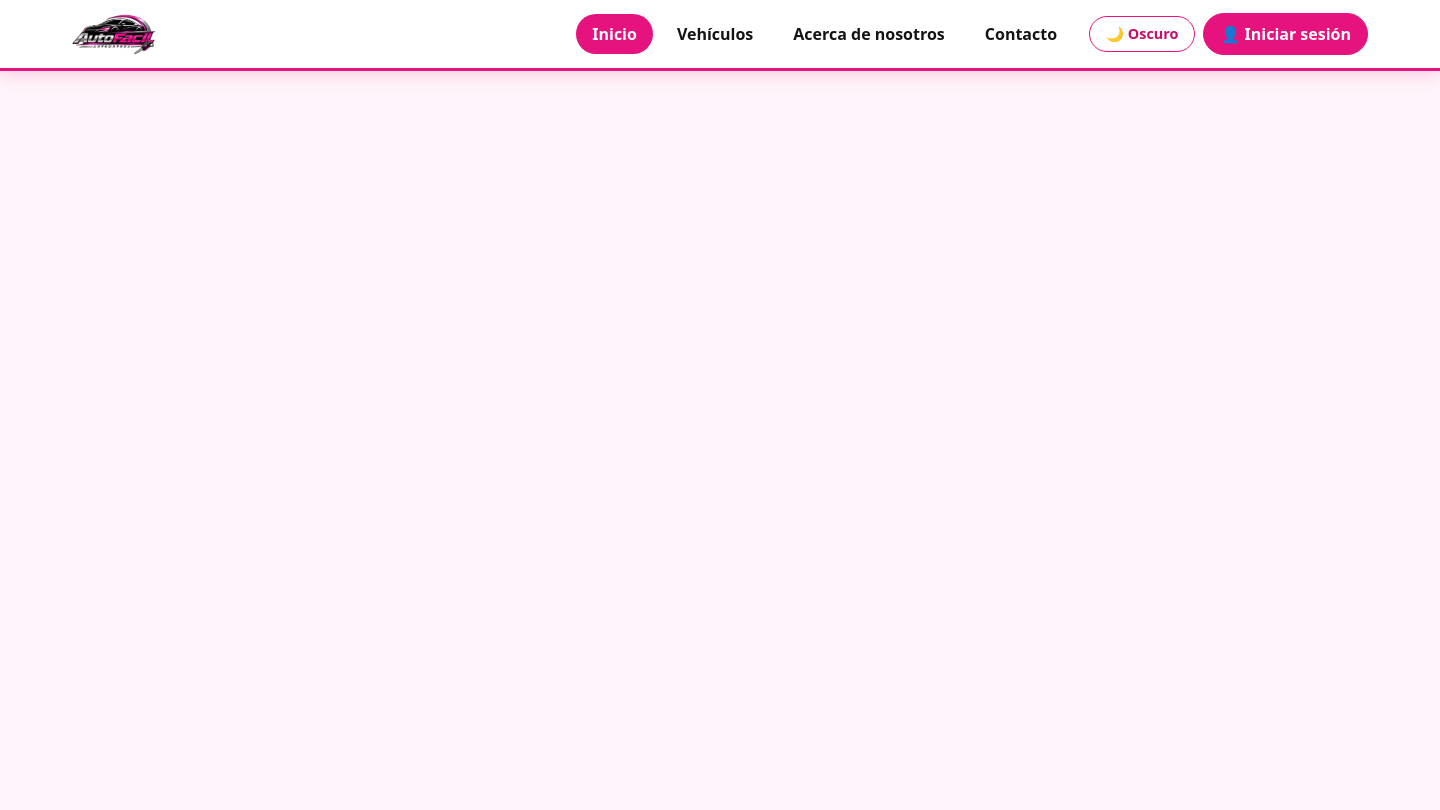
ModalSesion › muestra error con credenciales incorrectas
Step 1. Click the button "👤 Iniciar sesión" → (1286, 34), box [1203,13,1368,55]
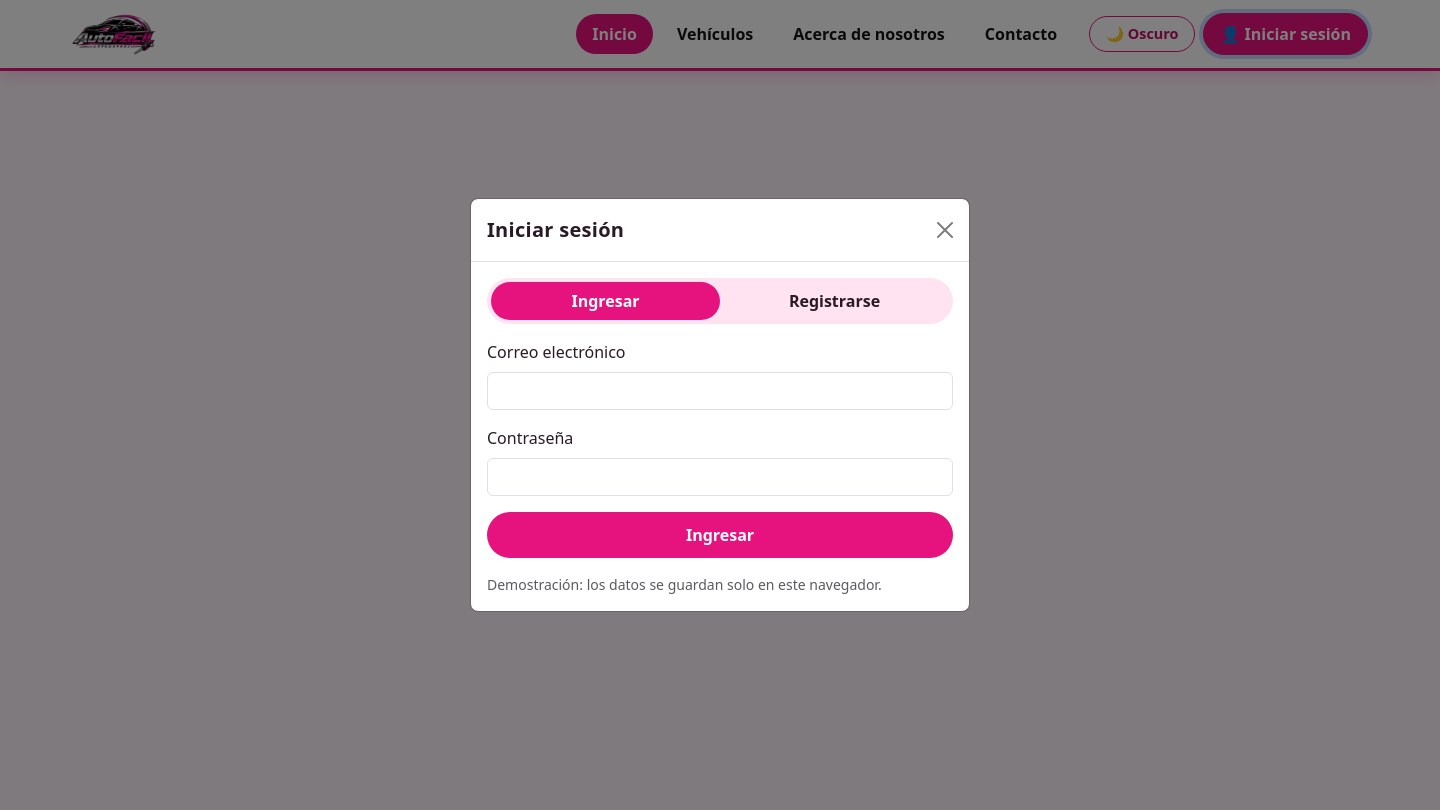
Step 2. Type "admin@autofacil.cl" into the field labelled "Correo electrónico" → (720, 391), box [487,372,953,410]
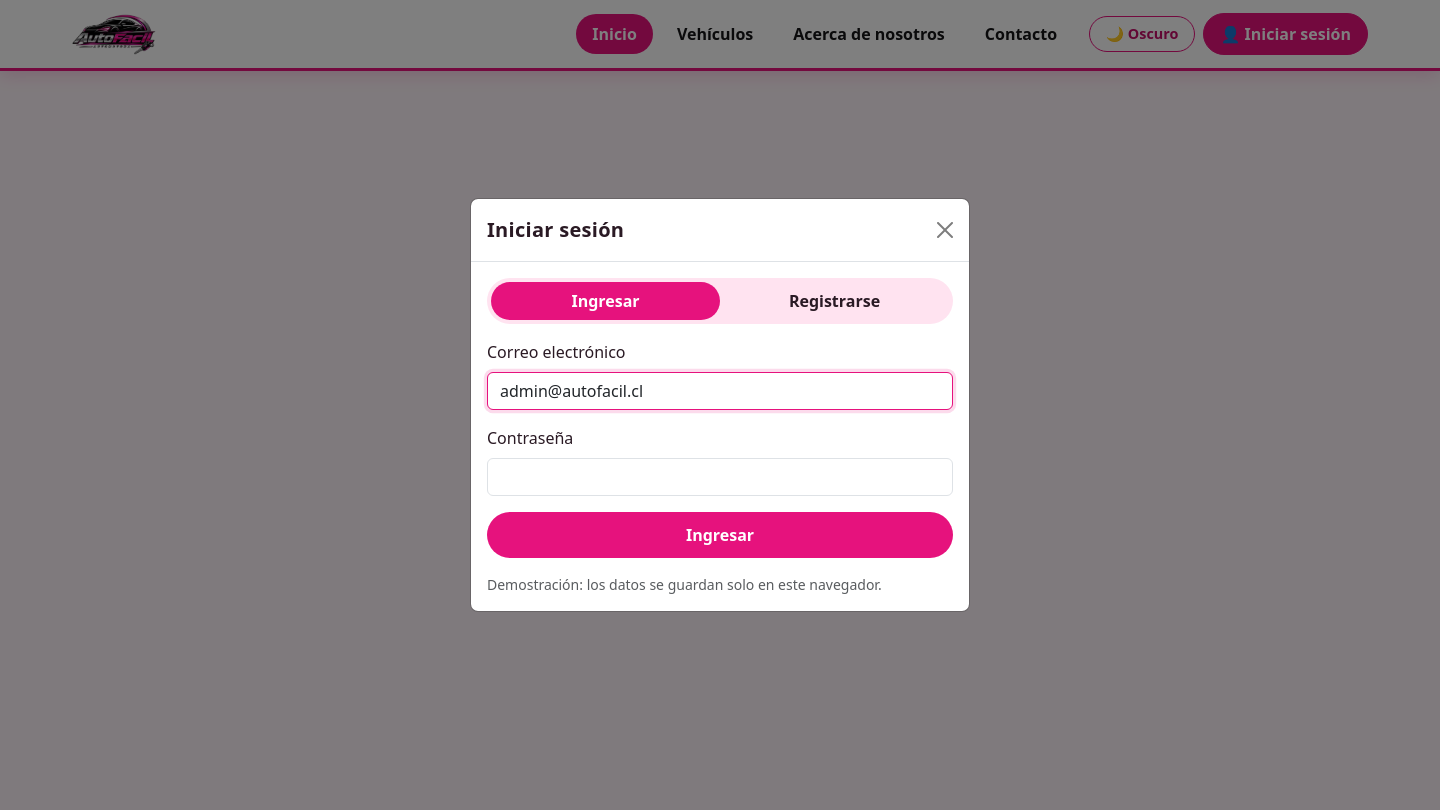
Step 3. Type "incorrecta" into the password field labelled "Contraseña" → (720, 477), box [487,458,953,496]
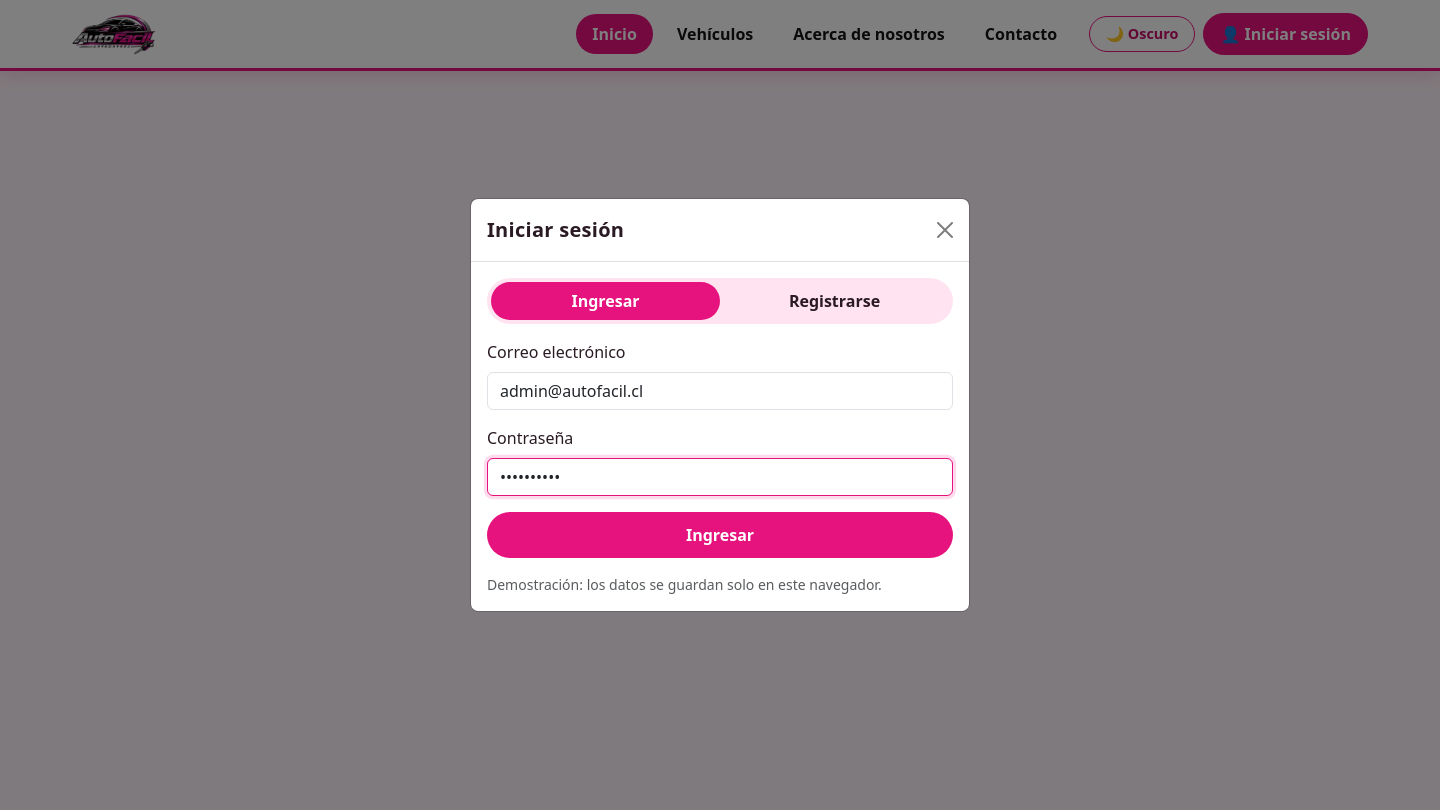
Step 4. Click the submit button → (720, 535), box [487,512,953,558]
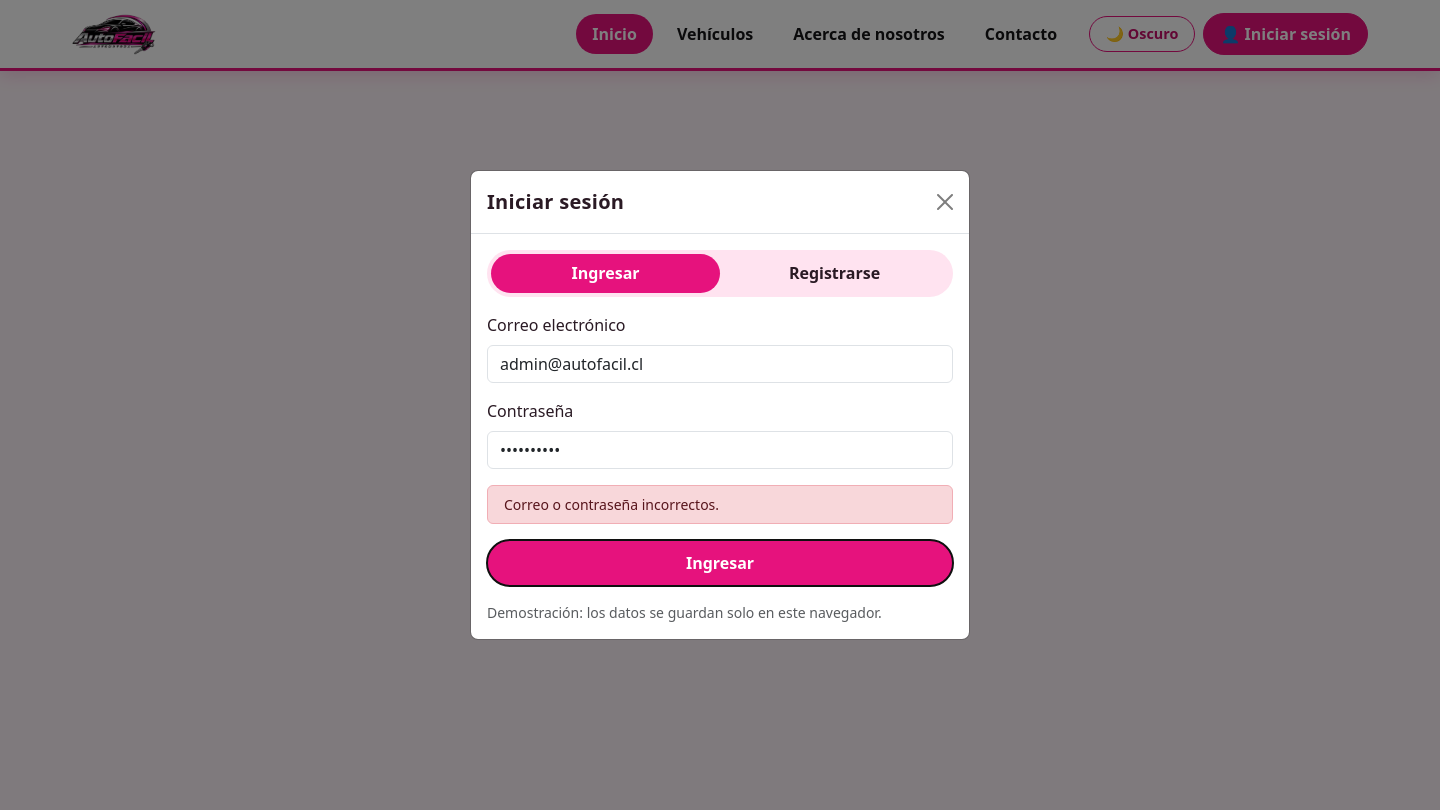
expect the message shows "incorrectos": met, box [504,494,719,514]
